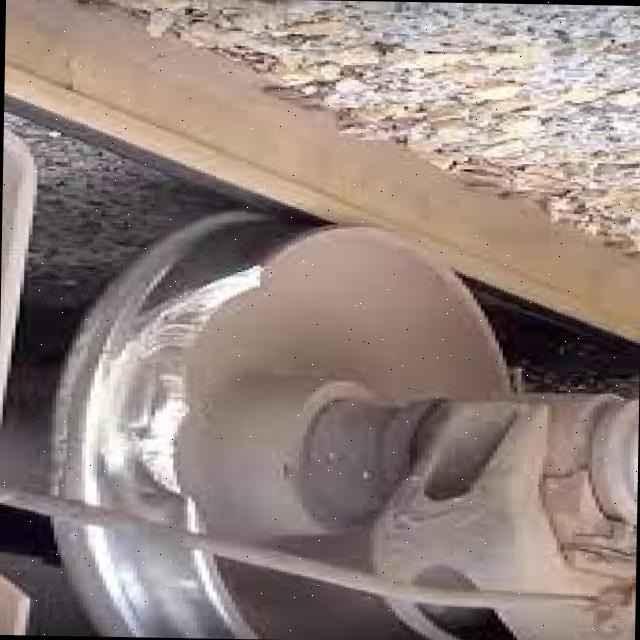Out_Of_Roundness: (51, 264, 239, 497)
